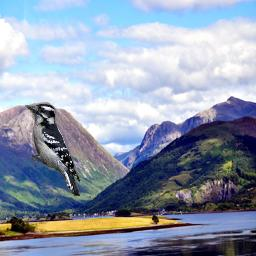Woodpecker: (25, 102, 80, 197)
